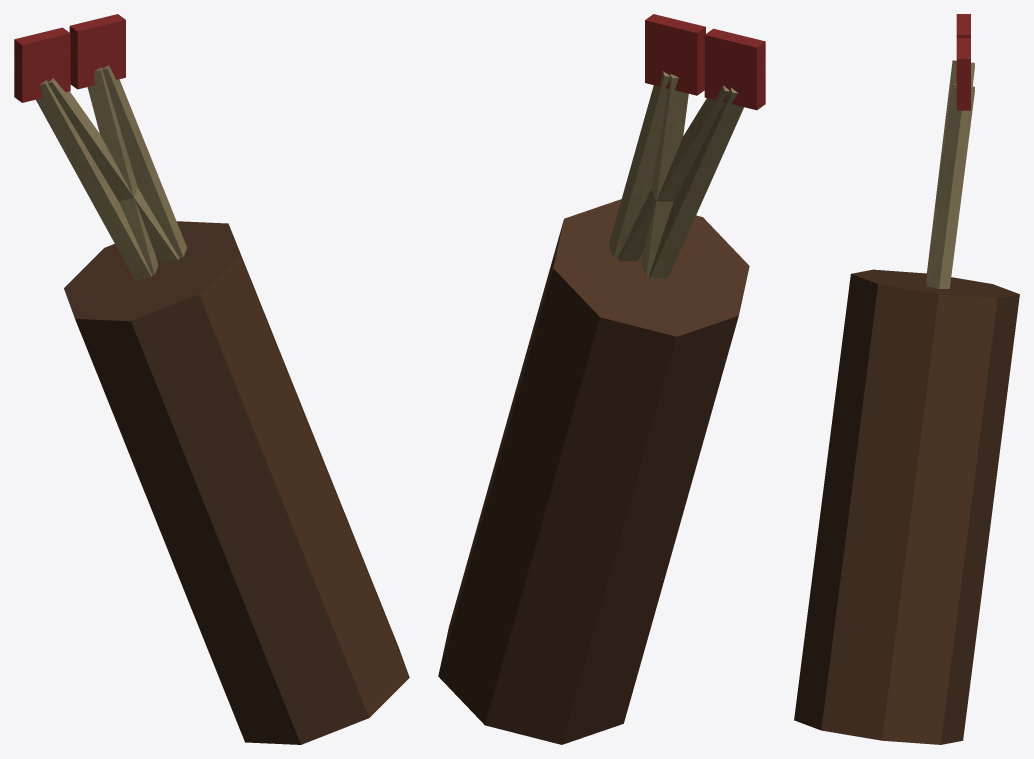
The model's file is acc_quiver.glb.
The picture shows the model from 3 angles, left to right: view 1: azimuth 30°, elevation 25°; view 2: azimuth 150°, elevation 25°; view 3: azimuth 270°, elevation 25°; orthographic projection. The views are drawn at different scales.
Parts seen in each view (by area): view 1: acc_quiver; view 2: acc_quiver; view 3: acc_quiver.
Part boxes in pixels (<box>): acc_quiver: <box>14,14,409,744</box>; acc_quiver: <box>438,14,765,744</box>; acc_quiver: <box>794,14,1019,744</box>.
Bounding box in the file's own units: 0.242 × 0.4888 × 0.1589.
3 materials, 3 textured.
